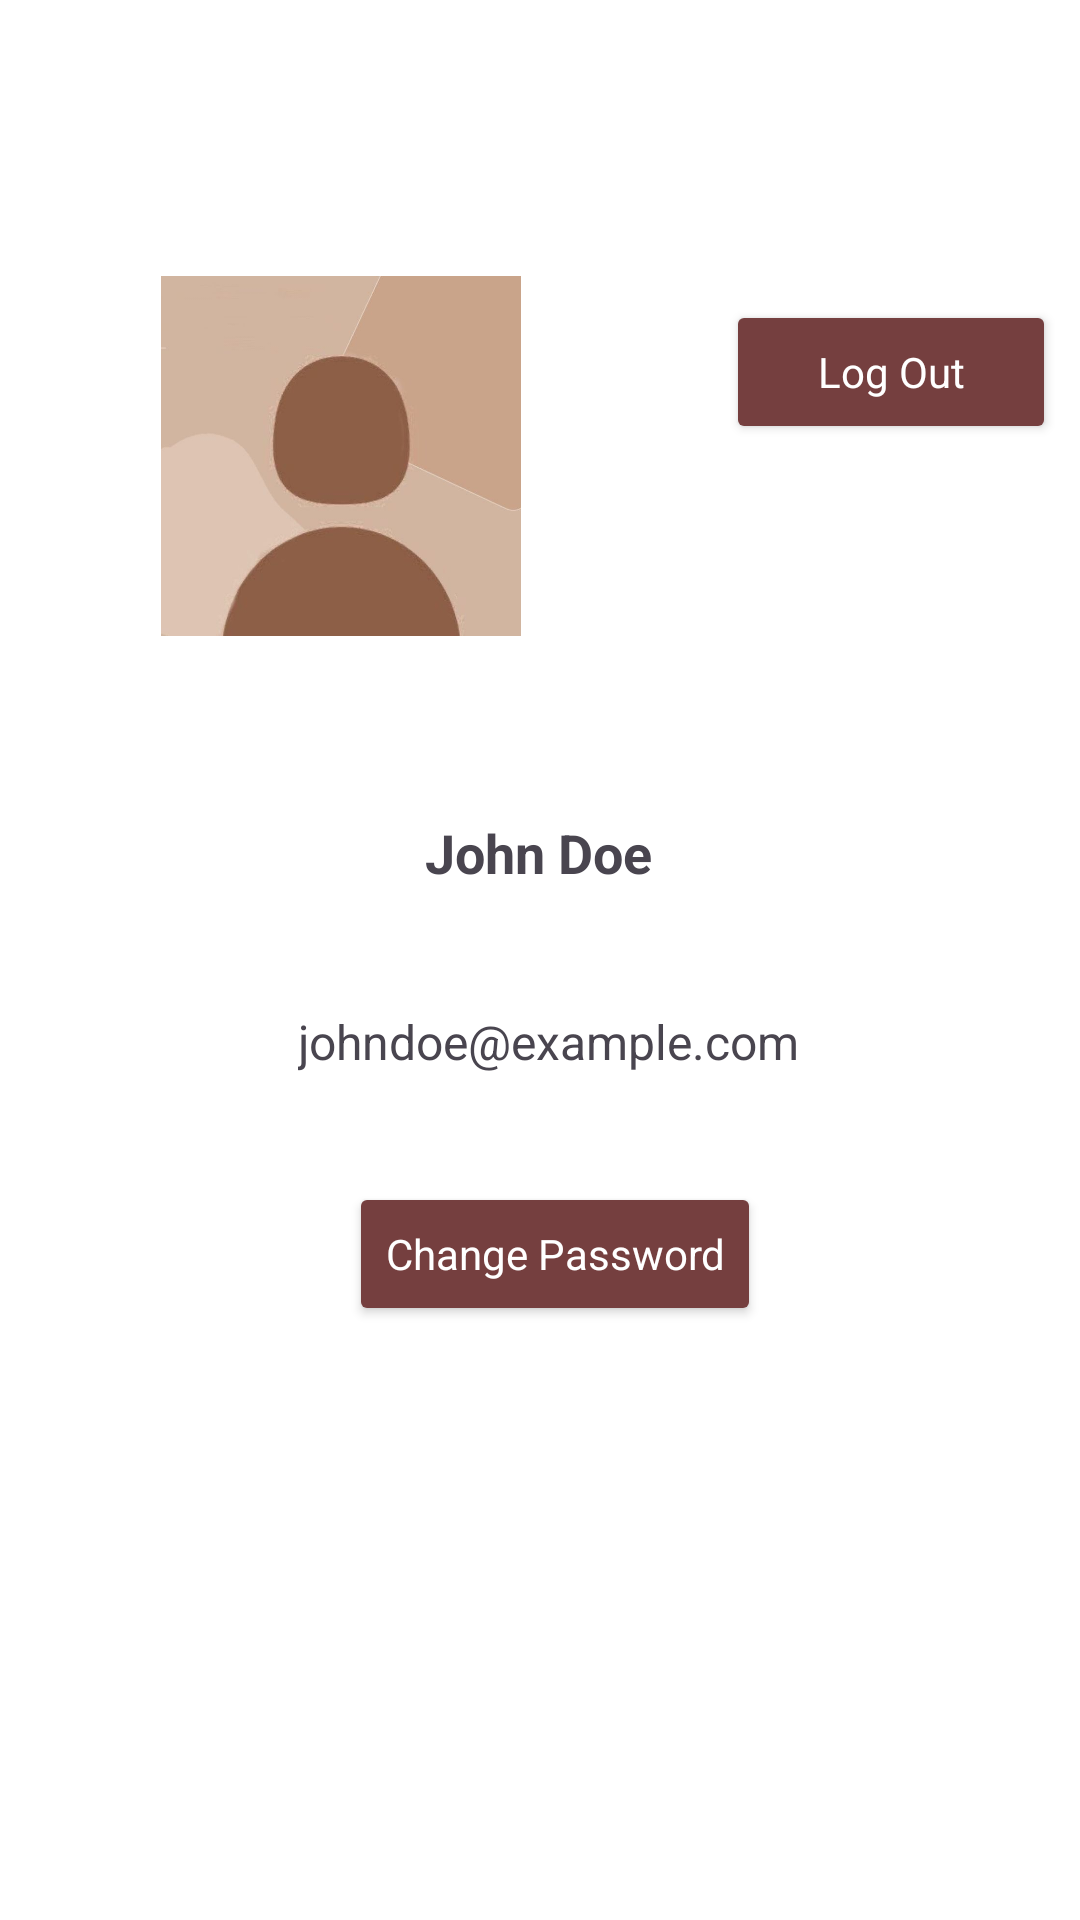

Screen size 1080x1920. Icon name, then its center in pixels as (x=x, y=y):
Profile Picture: (x=341, y=456)
